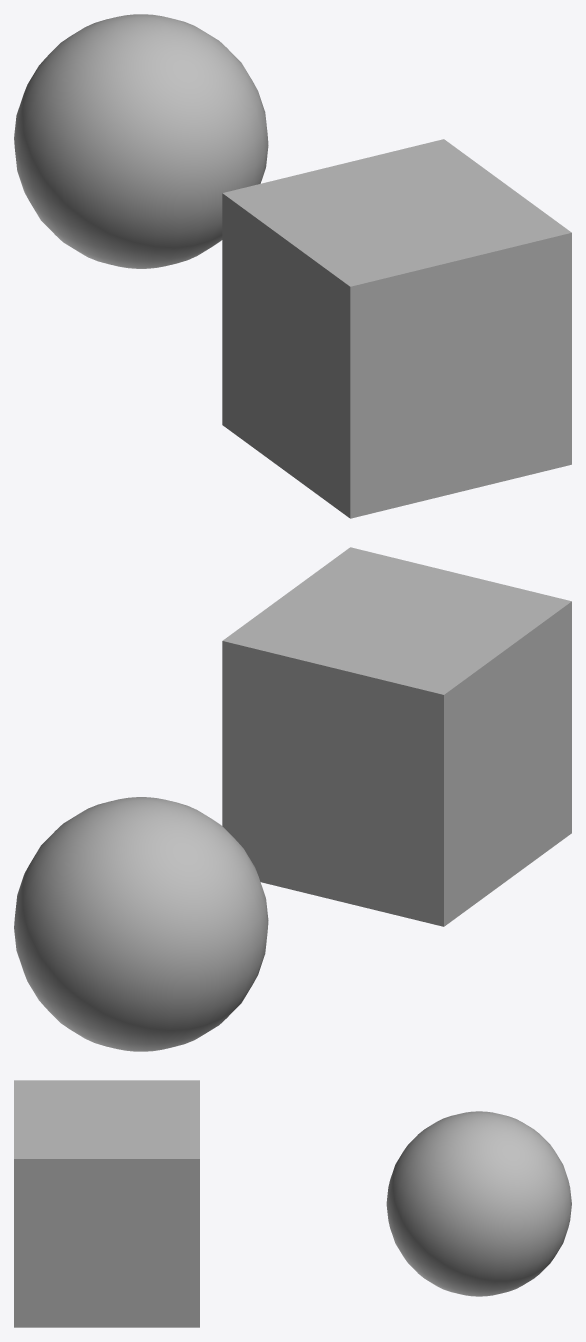
Rendered from Simple.obj.
3 views of the same model, one above another, from view 1: azimuth 30°, elevation 25°; view 2: azimuth 150°, elevation 25°; view 3: azimuth 270°, elevation 25° (orthographic). The views are drawn at different scales.
Parts seen in each view (by area): view 1: Cube_Cube.001, Sphere; view 2: Cube_Cube.001, Sphere; view 3: Cube_Cube.001, Sphere.
Boxes of the visible parts, x1,y1,x2,y2 form: Cube_Cube.001: (222,139,571,518); Sphere: (14,14,268,268); Cube_Cube.001: (222,547,571,926); Sphere: (14,797,268,1051); Cube_Cube.001: (14,1080,199,1327); Sphere: (386,1111,571,1296).
Size of what is drawn, in the model's own units: 201 by 201 by 602.
